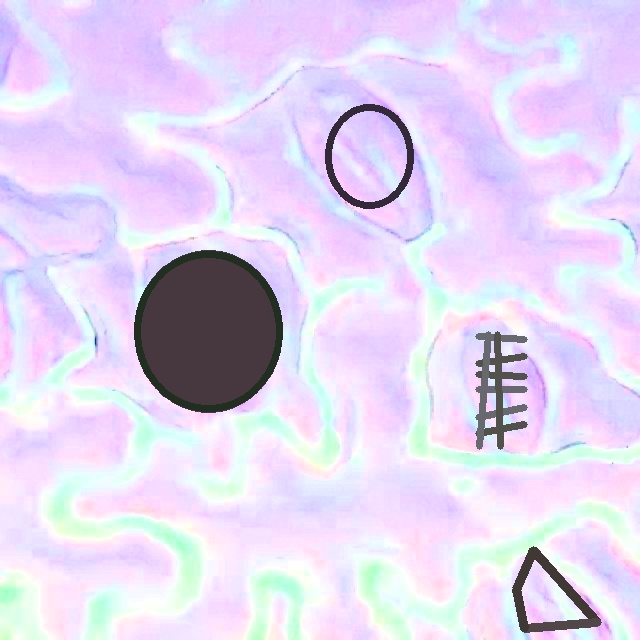open: (134, 250, 283, 412), (326, 105, 413, 208), (512, 546, 601, 632), (476, 332, 526, 449)
